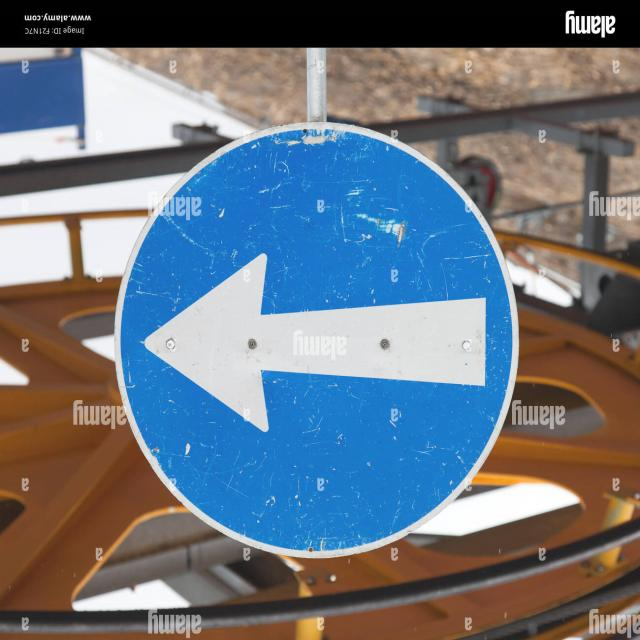Turn Left: (107, 125, 491, 562)
